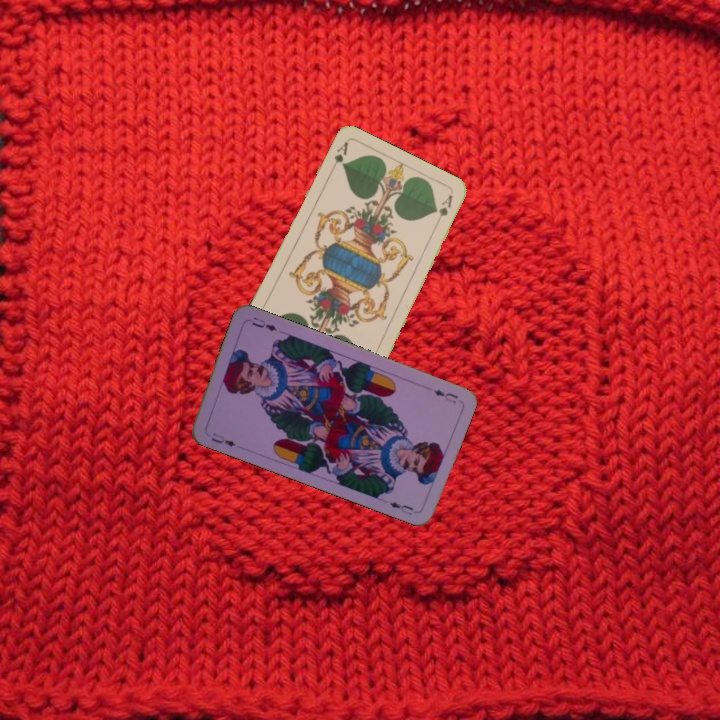EU: (430, 385, 460, 406), (207, 429, 238, 449)
GA: (330, 138, 350, 166)
